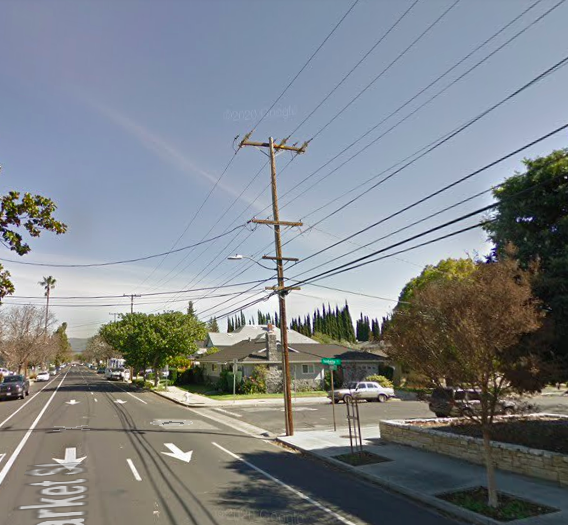utility_pole: (230, 126, 315, 178)
